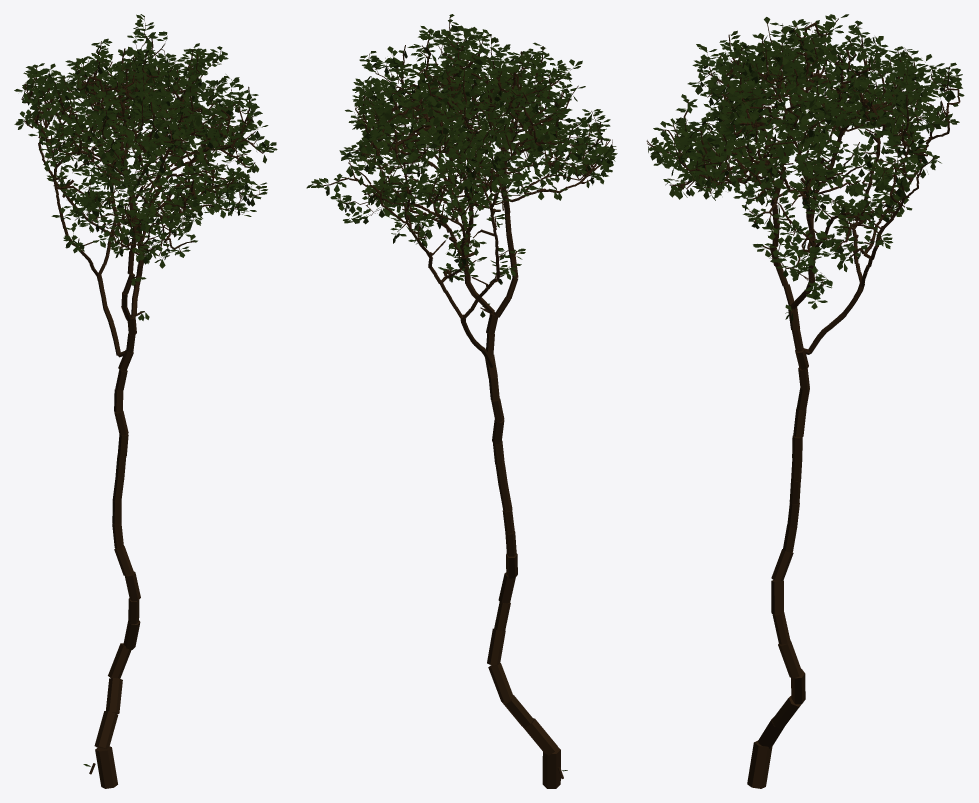
The model's file is 2022_tree_148.obj.
3 views of the same model, side by side, from view 1: azimuth 30°, elevation 25°; view 2: azimuth 150°, elevation 25°; view 3: azimuth 270°, elevation 25° (orthographic). The views are drawn at different scales.
Visible parts, largest first — view 1: Leaves, TrunkAndBranches; view 2: Leaves, TrunkAndBranches; view 3: Leaves, TrunkAndBranches.
Boxes of the visible parts, left/top/right/bottom form: Leaves: left=14, top=14, right=277, bottom=766; TrunkAndBranches: left=21, top=16, right=269, bottom=788; Leaves: left=306, top=14, right=617, bottom=771; TrunkAndBranches: left=314, top=16, right=612, bottom=788; Leaves: left=648, top=14, right=964, bottom=320; TrunkAndBranches: left=646, top=18, right=960, bottom=788.
Size of the model in its own units: 7.99 by 23.42 by 8.54.
